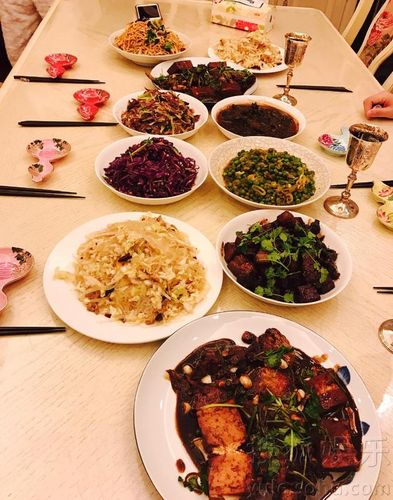food: (140, 304, 379, 499), (39, 197, 218, 344), (215, 202, 356, 307), (92, 130, 215, 206), (210, 133, 328, 212), (150, 55, 257, 104), (116, 83, 201, 140), (210, 92, 308, 139), (113, 7, 186, 66), (210, 29, 285, 70)
